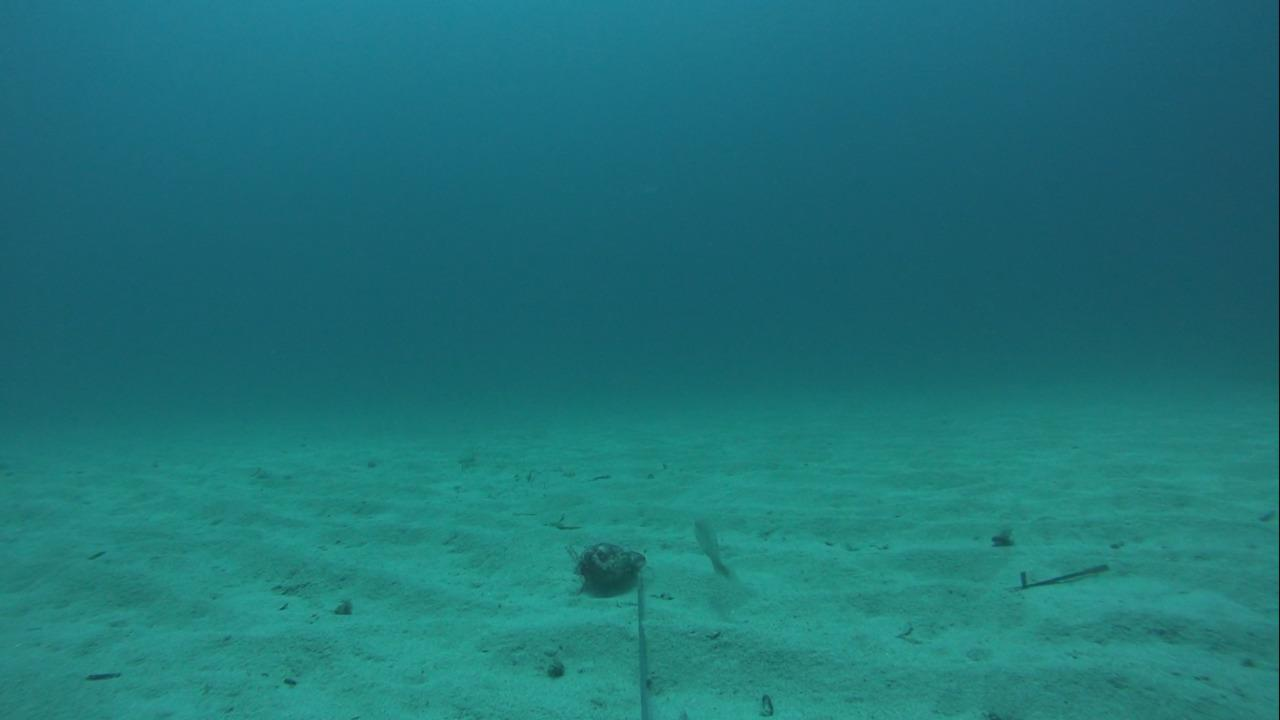raor: (680, 506, 743, 581)
